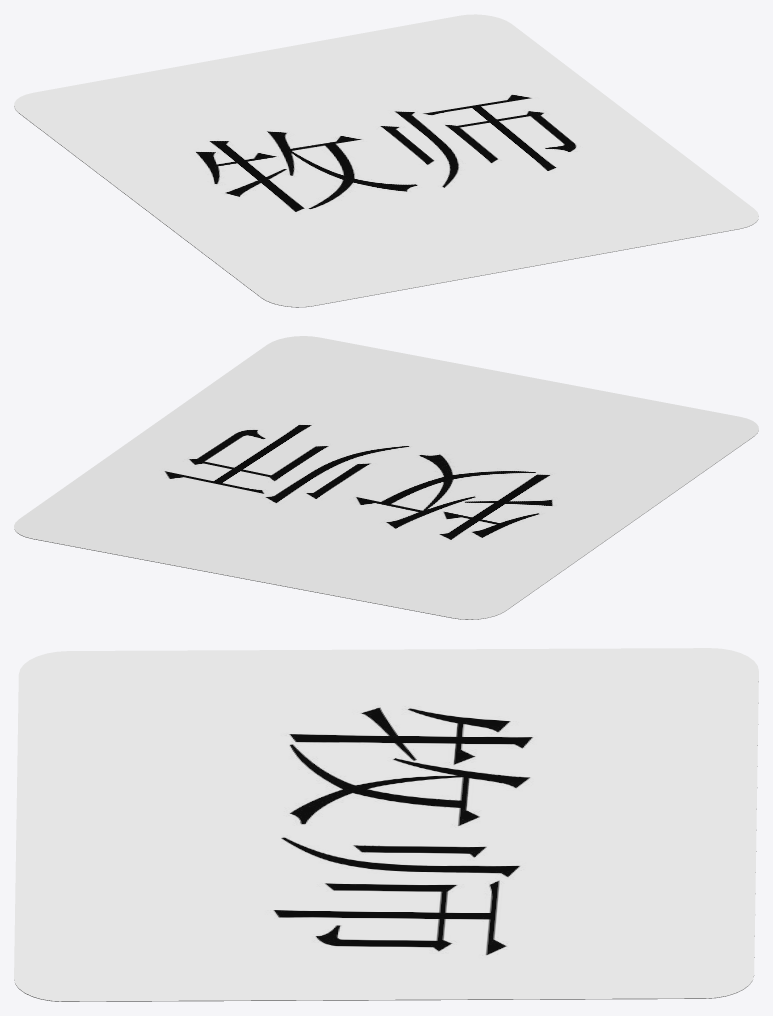
File: MuShi.FBX
The picture shows the model from 3 angles, top to bottom: view 1: azimuth 30°, elevation 25°; view 2: azimuth 150°, elevation 25°; view 3: azimuth 270°, elevation 25°; orthographic projection. The views are drawn at different scales.
Visible parts, largest first — view 1: Rectangle001; view 2: Rectangle001; view 3: Rectangle001.
Part boxes in pixels (x1,y1,x2,y2): Rectangle001: (14,14,758,307); Rectangle001: (14,336,758,619); Rectangle001: (14,648,758,1001).
Bounding box in the file's own units: 60.32 × 3.91 × 60.38.
